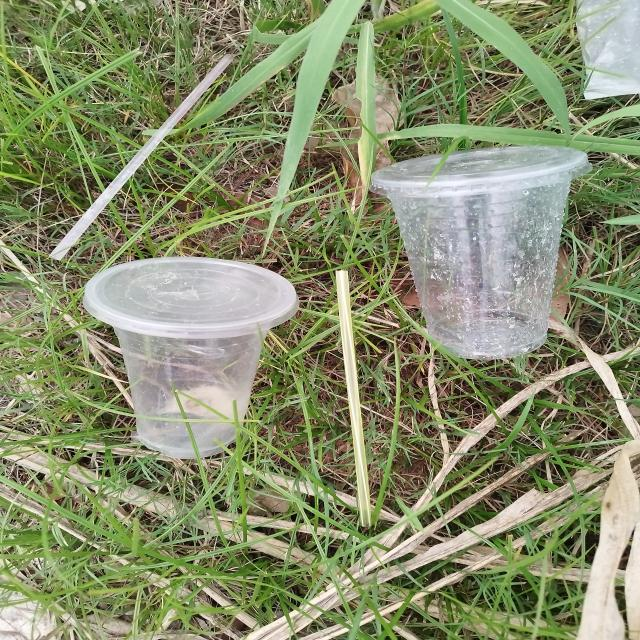drinking straw: (49, 54, 234, 260), (336, 271, 370, 527)
packet: (578, 0, 640, 100)
plastic glass: (368, 147, 594, 360), (82, 256, 301, 459)
